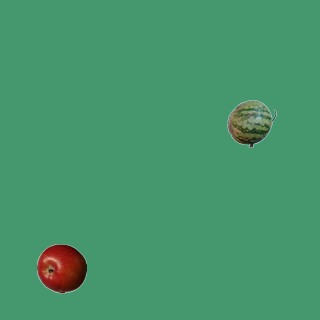Apple Braeburn: (36, 243, 86, 293)
Watermelon: (226, 98, 276, 148)
